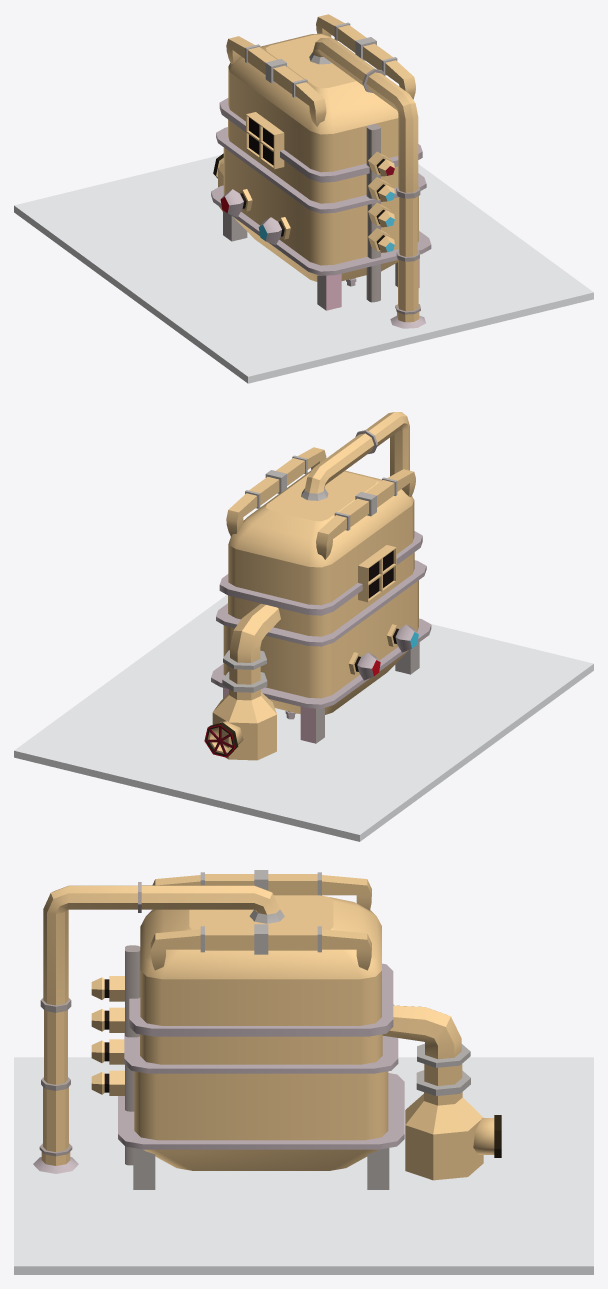
File: Clear water  3.fbx
The picture shows the model from 3 angles, top to bottom: view 1: azimuth 30°, elevation 25°; view 2: azimuth 150°, elevation 25°; view 3: azimuth 270°, elevation 25°; orthographic projection. The views are drawn at different scales.
Visible parts, largest first — view 1: Cube.002, Cube.003, Cylinder.020, Cube.007, Cylinder.017, Cube.004, Cube.006, Cube.005, Cylinder.014, Cylinder.015; view 2: Cube.002, Cube.003, Cylinder.018, Cube.007, Cylinder.020, Cube.004, Cube.005, Cylinder.019, Cylinder.014, Cylinder.015; view 3: Cube.002, Cube.003, Cylinder.020, Cylinder.018, Cube.007, Cylinder.017, Cube.005, Cube.006, Cylinder.019.
Boxes of the visible parts, left/top/right/bottom form: Cube.002: left=14, top=155, right=593, bottom=383; Cube.003: left=211, top=33, right=431, bottom=281; Cylinder.020: left=309, top=38, right=425, bottom=328; Cube.007: left=226, top=14, right=415, bottom=126; Cylinder.017: left=368, top=151, right=394, bottom=252; Cube.004: left=246, top=112, right=284, bottom=169; Cube.006: left=366, top=124, right=380, bottom=302; Cube.005: left=223, top=210, right=419, bottom=310; Cylinder.014: left=258, top=217, right=290, bottom=245; Cylinder.015: left=220, top=189, right=252, bottom=217; Cube.002: left=14, top=595, right=593, bottom=841; Cube.003: left=211, top=470, right=431, bottom=714; Cylinder.018: left=212, top=603, right=280, bottom=760; Cube.007: left=226, top=447, right=415, bottom=559; Cylinder.020: left=301, top=412, right=409, bottom=500; Cube.004: left=358, top=545, right=396, bottom=602; Cube.005: left=223, top=642, right=419, bottom=743; Cylinder.019: left=204, top=721, right=243, bottom=757; Cylinder.014: left=387, top=624, right=418, bottom=652; Cylinder.015: left=348, top=652, right=380, bottom=680; Cube.002: left=14, top=1057, right=593, bottom=1274; Cube.003: left=118, top=895, right=404, bottom=1170; Cylinder.020: left=33, top=882, right=284, bottom=1173; Cylinder.018: left=382, top=1005, right=483, bottom=1180; Cube.007: left=150, top=870, right=371, bottom=970; Cylinder.017: left=91, top=976, right=124, bottom=1095; Cube.005: left=133, top=1148, right=389, bottom=1189; Cube.006: left=125, top=945, right=140, bottom=1165; Cylinder.019: left=473, top=1115, right=501, bottom=1157.
Bounding box in the file's own units: 609 × 394 × 715.
